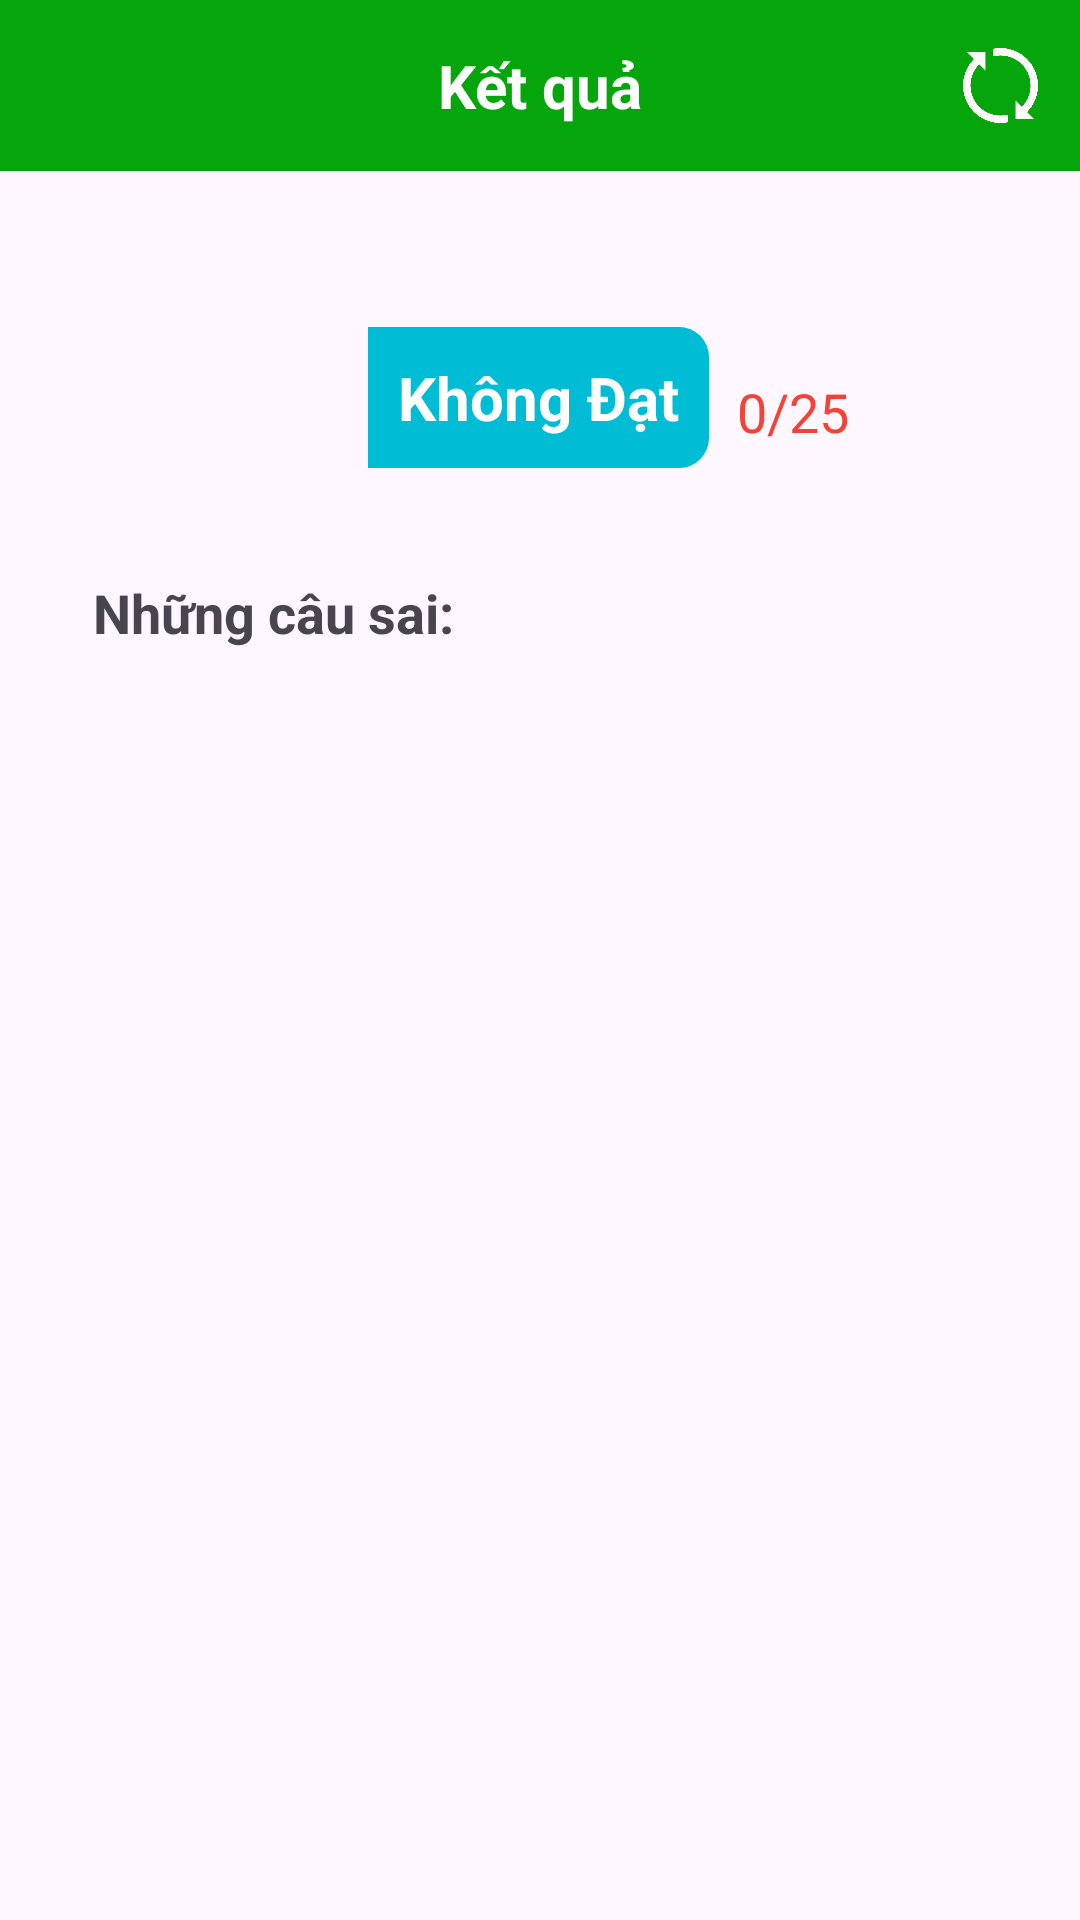

Icons on this 1080×1920 Android screen, each with its box as (x1, y1, x2, y2):
loading: (963, 48, 1038, 123)
